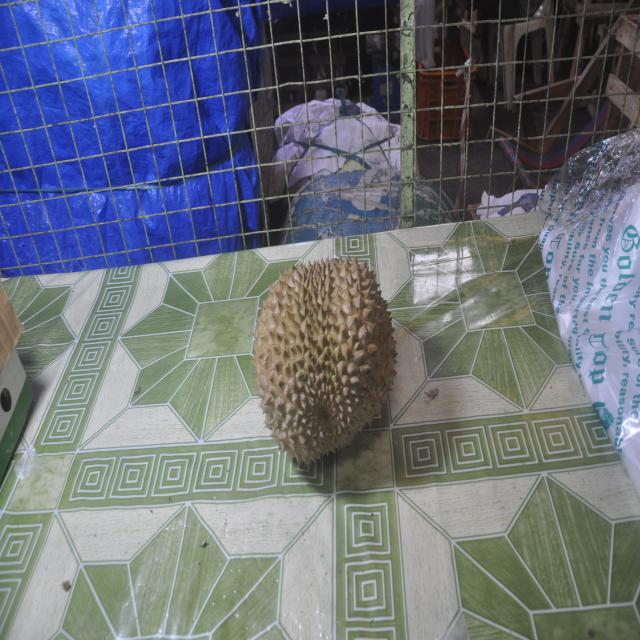mature: (254, 259, 397, 466)
